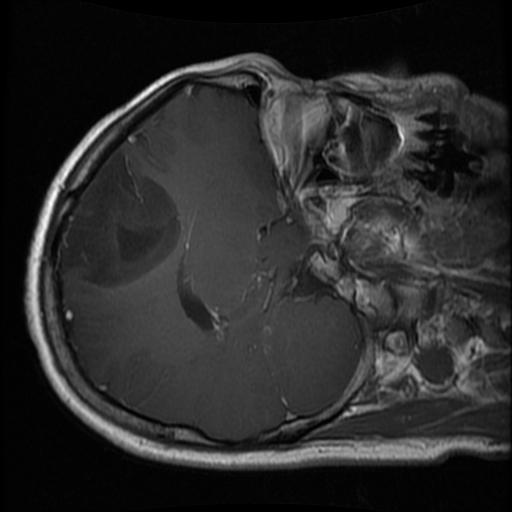glioma: (63, 143, 177, 289)
